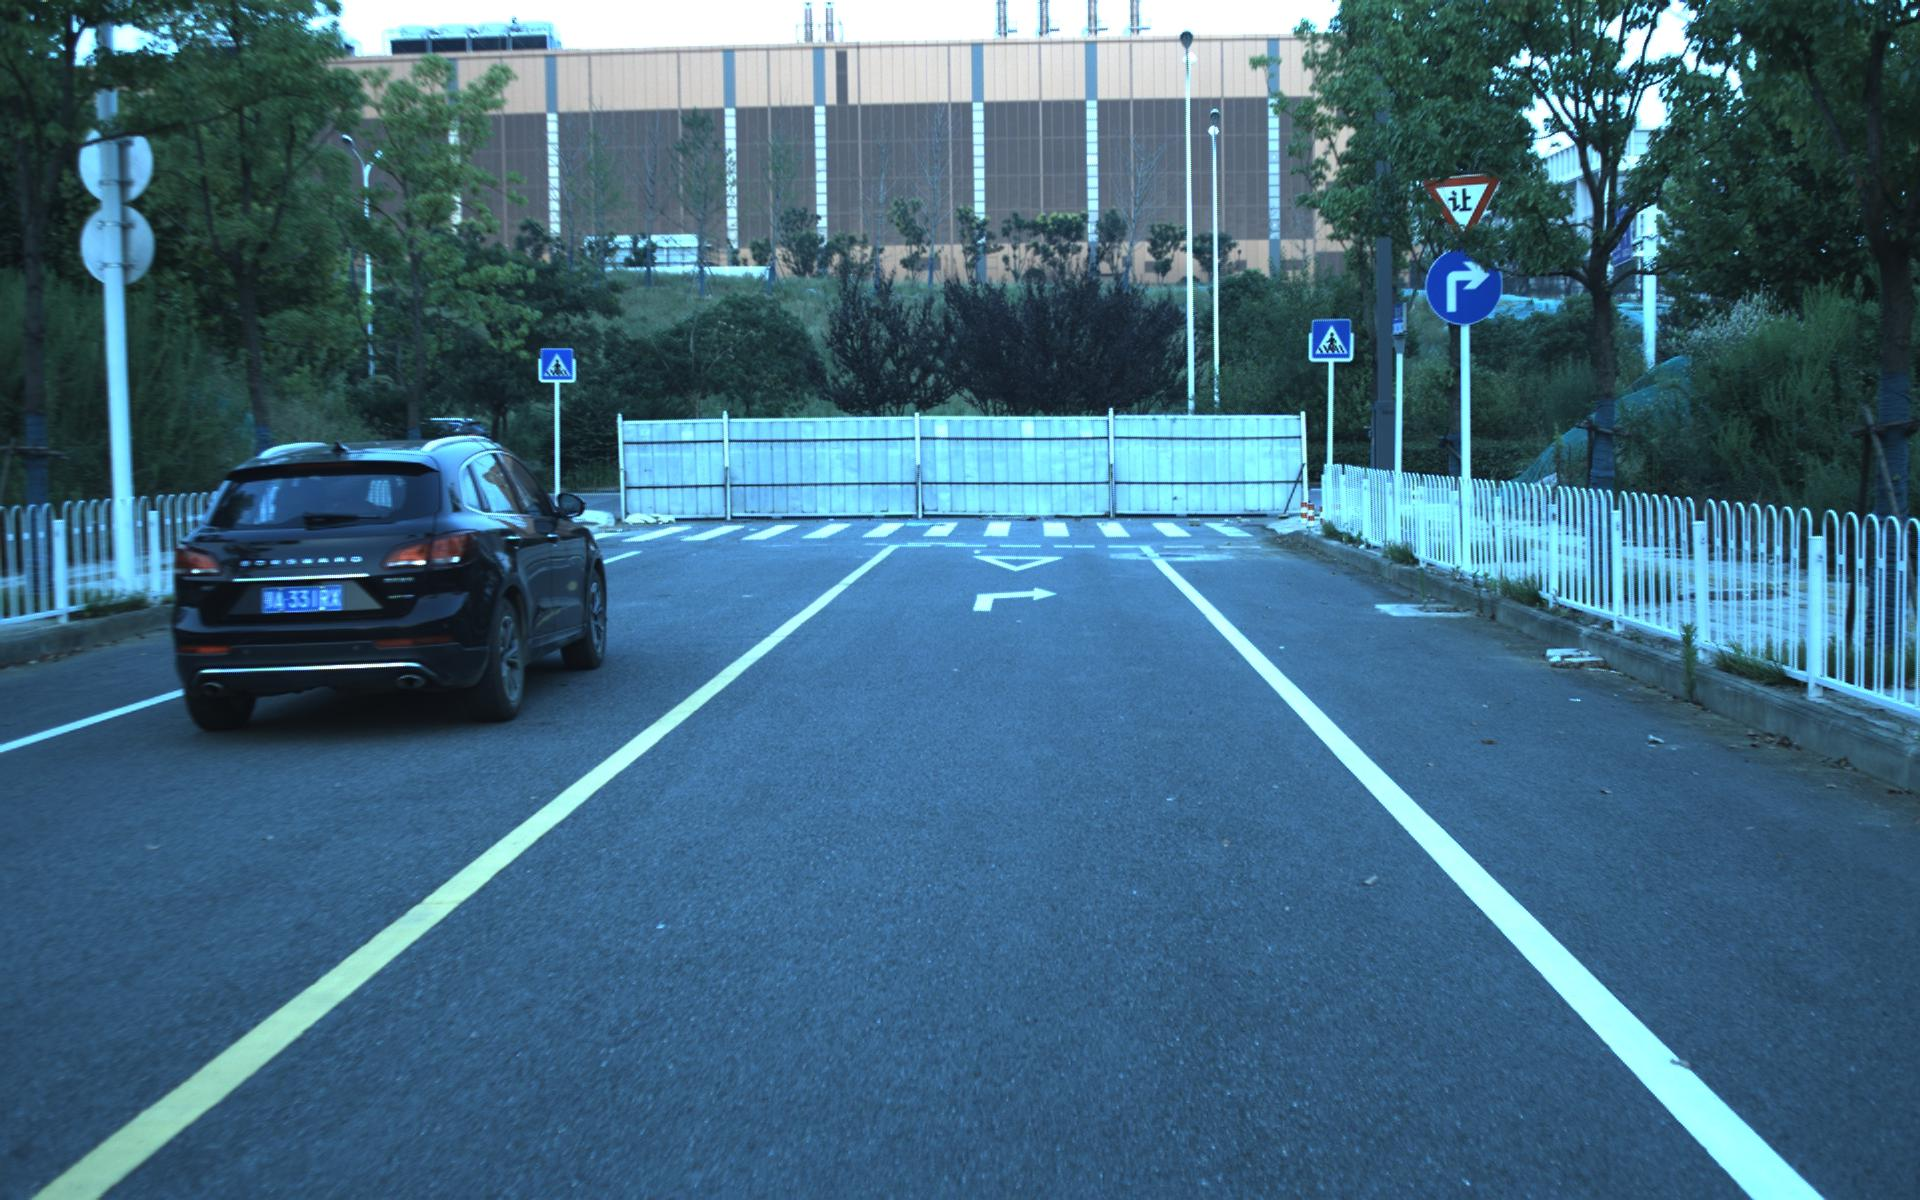Car: (153, 424, 618, 735)
